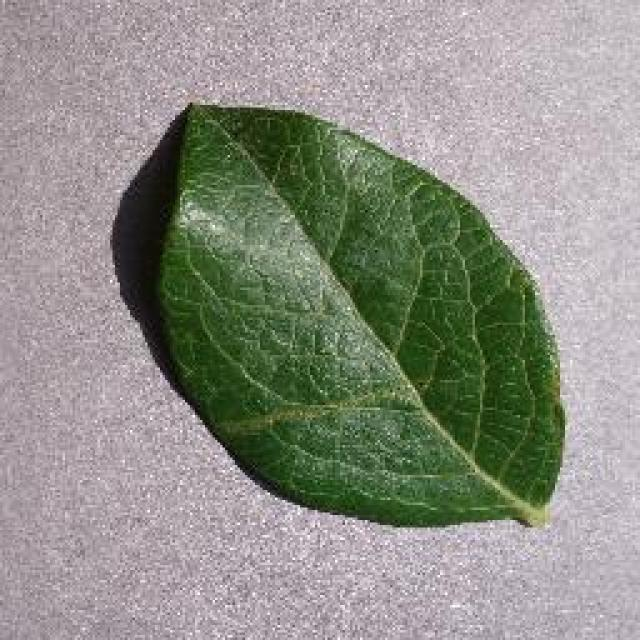Blu_healthy: (191, 162, 551, 500)
